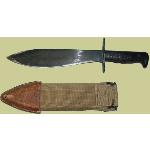Golok: (5, 36, 150, 75)
